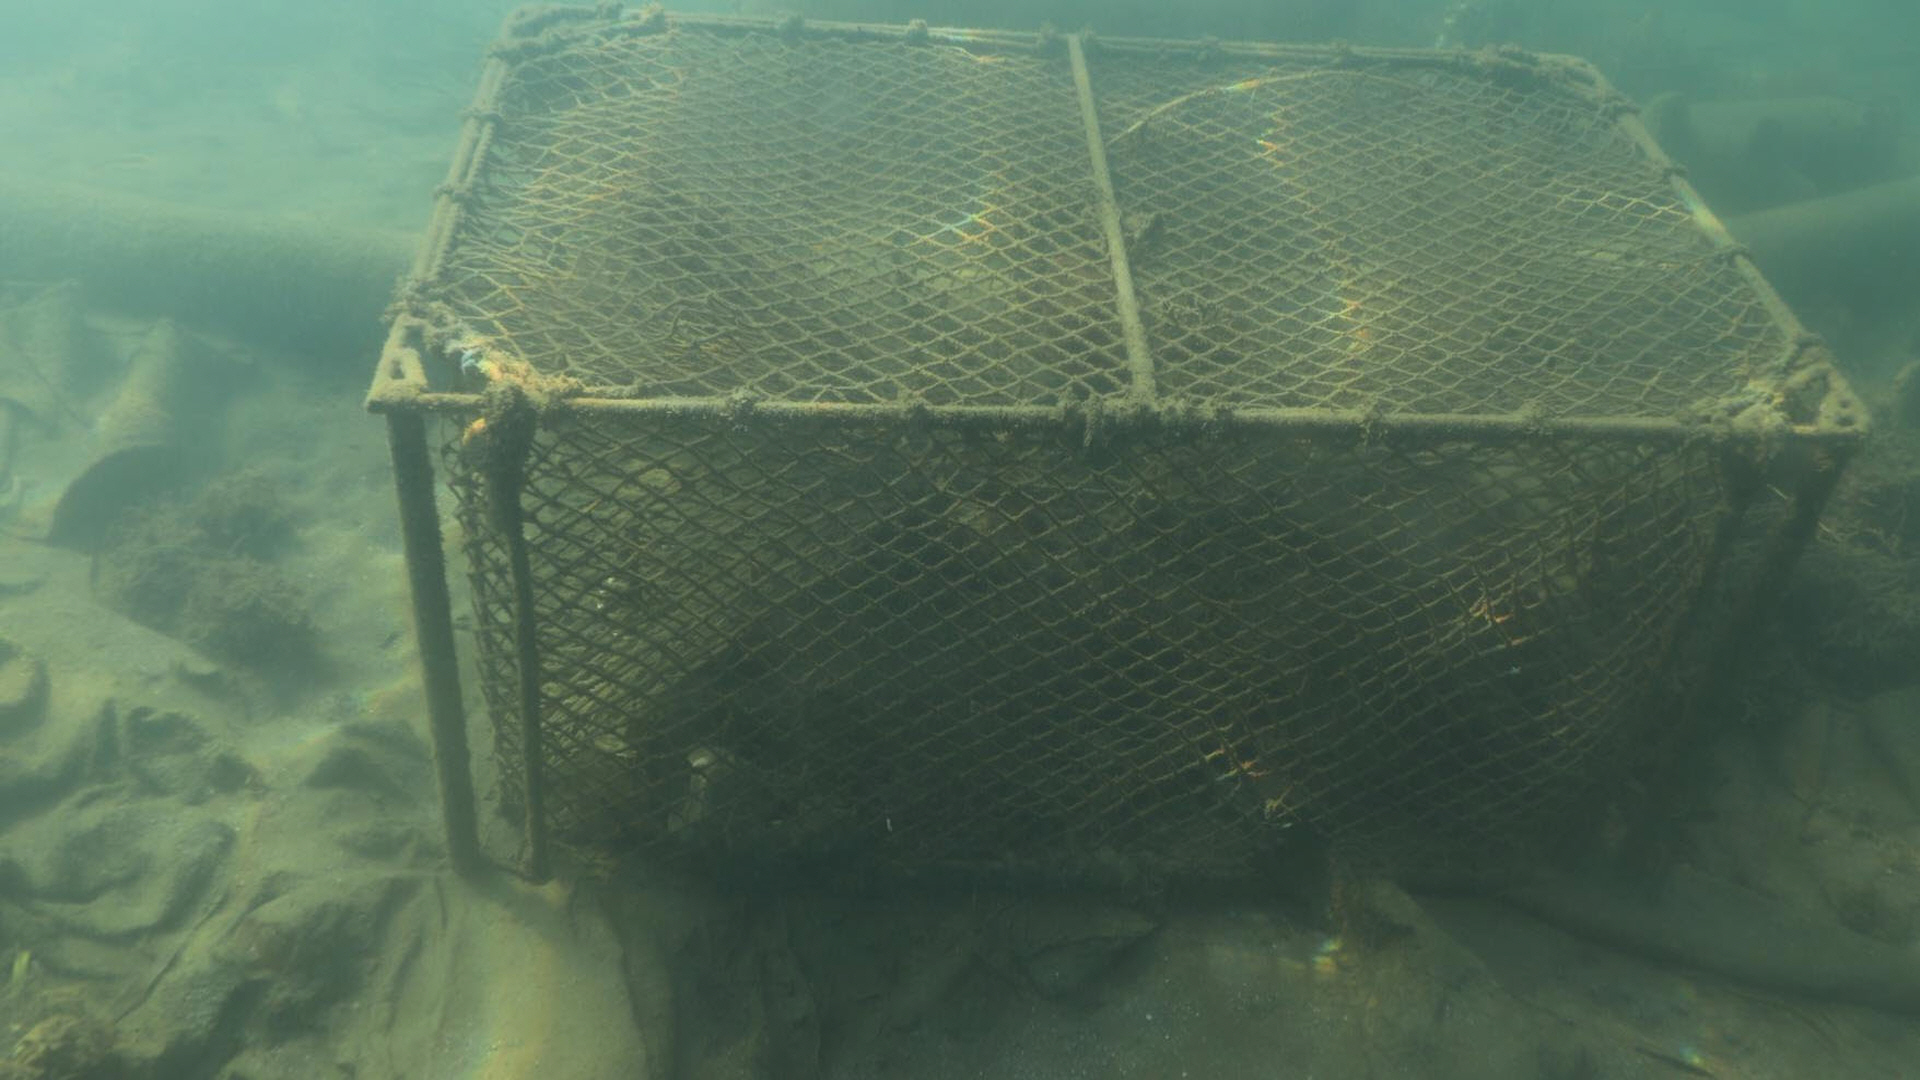rectangular fish trap: (363, 0, 1874, 887)
